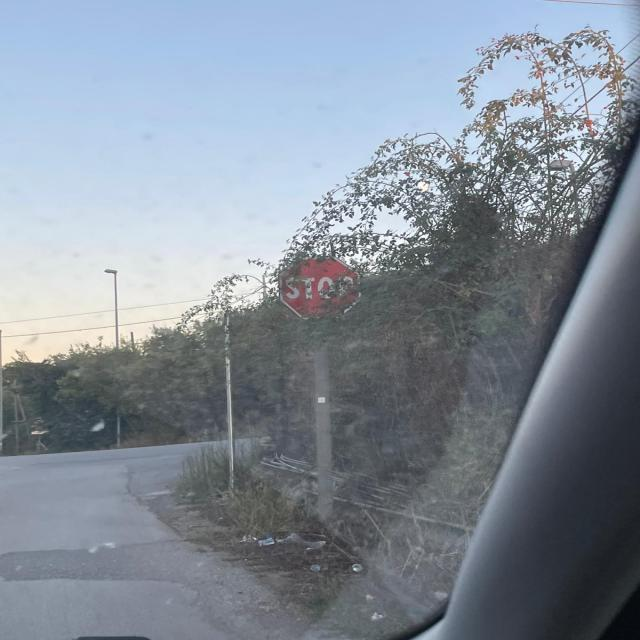prio_stop: (281, 254, 362, 319)
